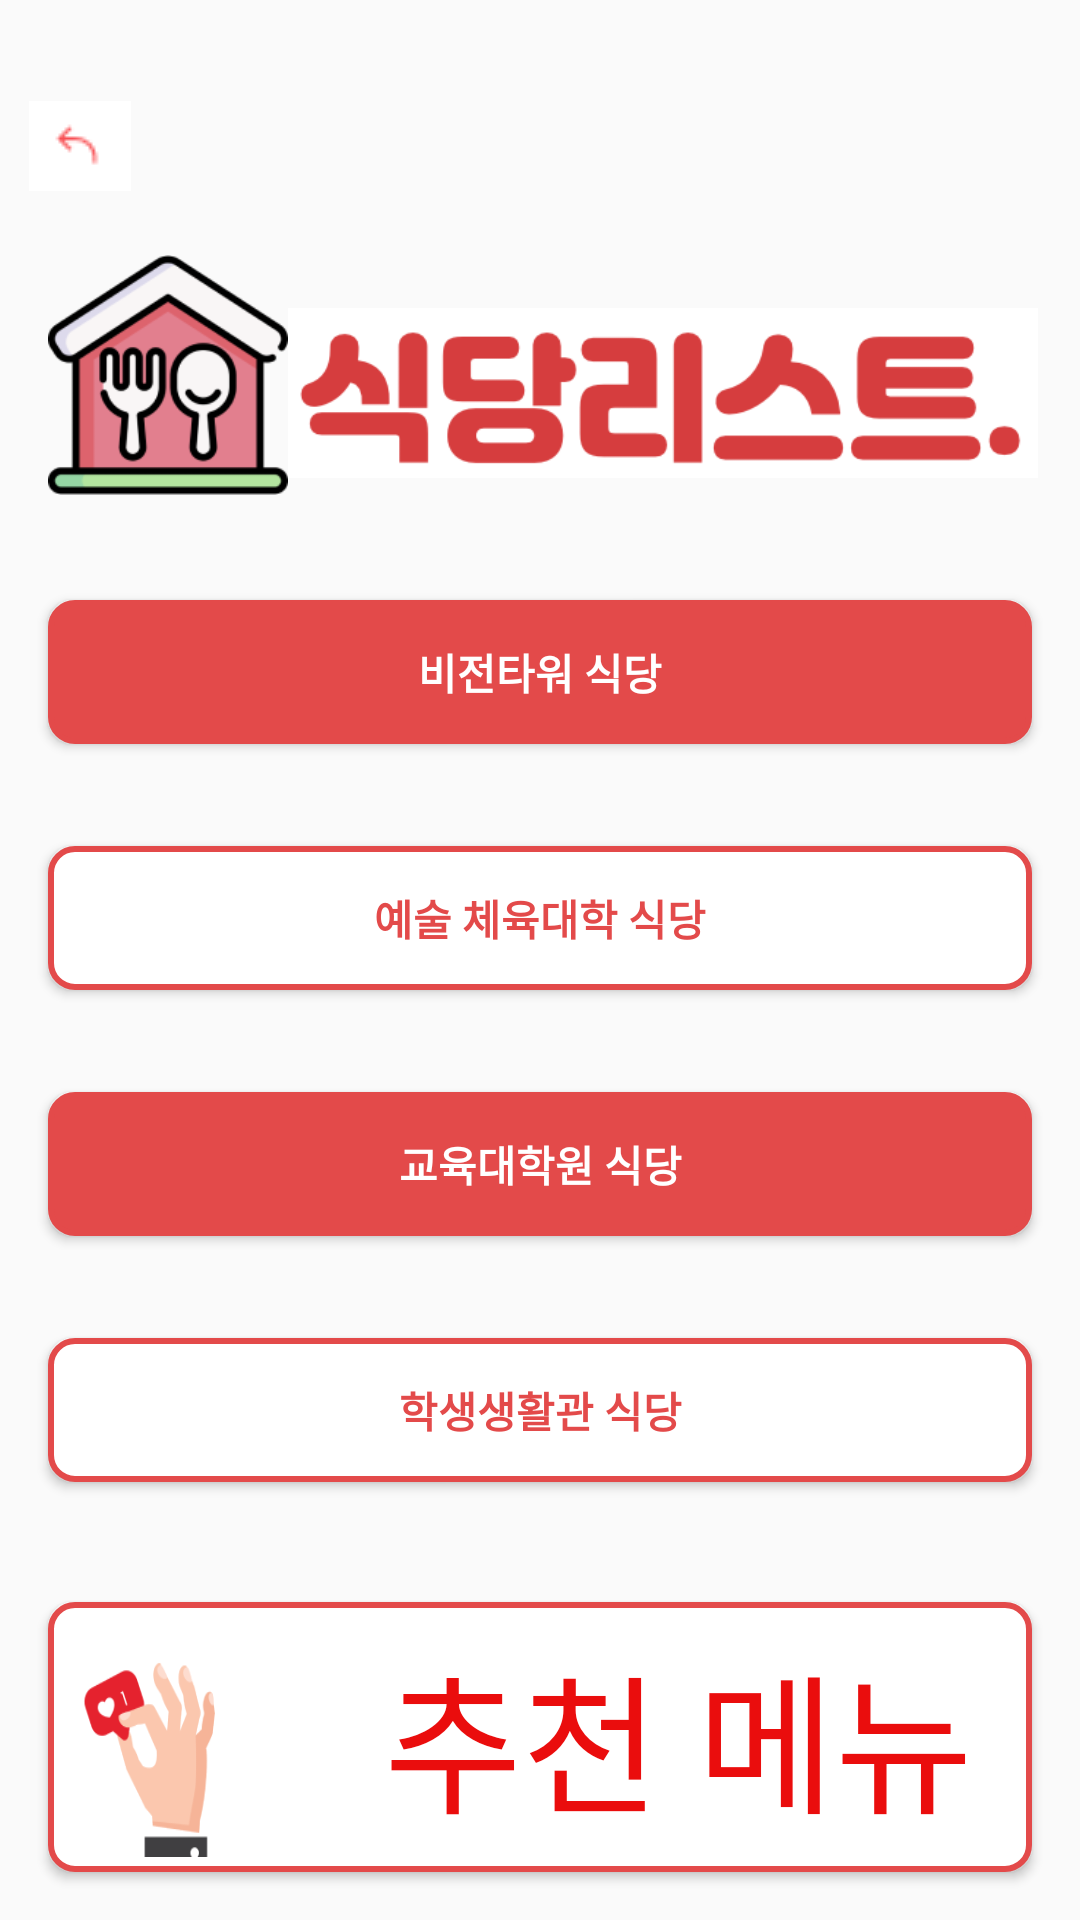

Icons on this 1080x1920 Android screen, each with its box as (x1, y1, x2, y2):
restaurant: (48, 255, 288, 495)
